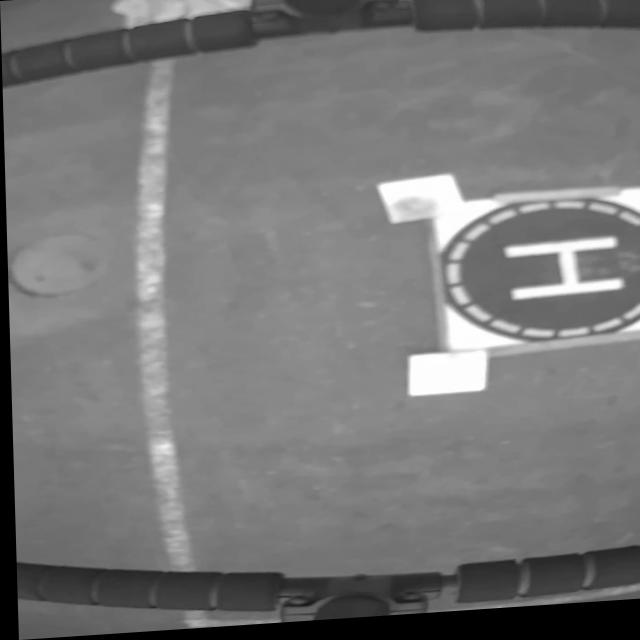Helipad: (502, 242, 626, 307)
